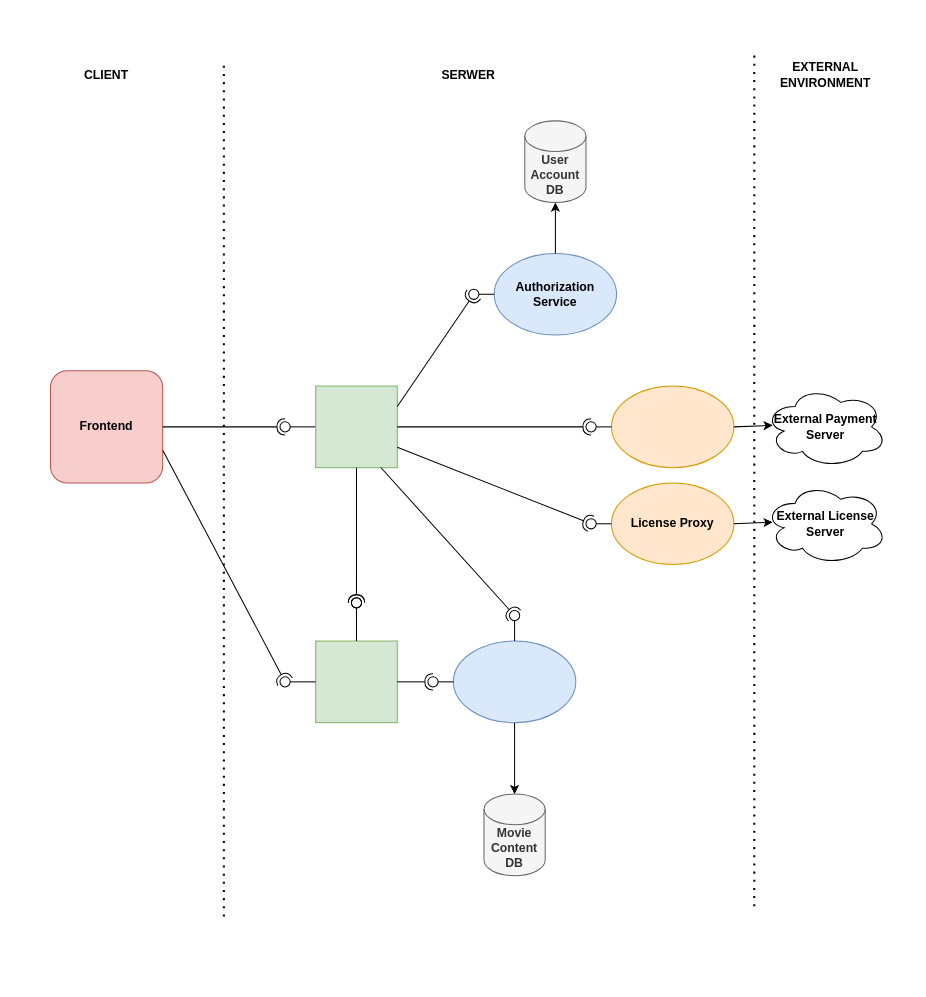
The diagram is 926 pixels wide and 997 high, and some of its shapes have lost their labels. The centre of each missing label's shape, as x and y in pixels:
"API Gateway" belongs at point 356,426.
"Payment Proxy" belongs at point 672,426.
"Stream Gateway" belongs at point 356,681.
"Stream Service" belongs at point 514,681.
